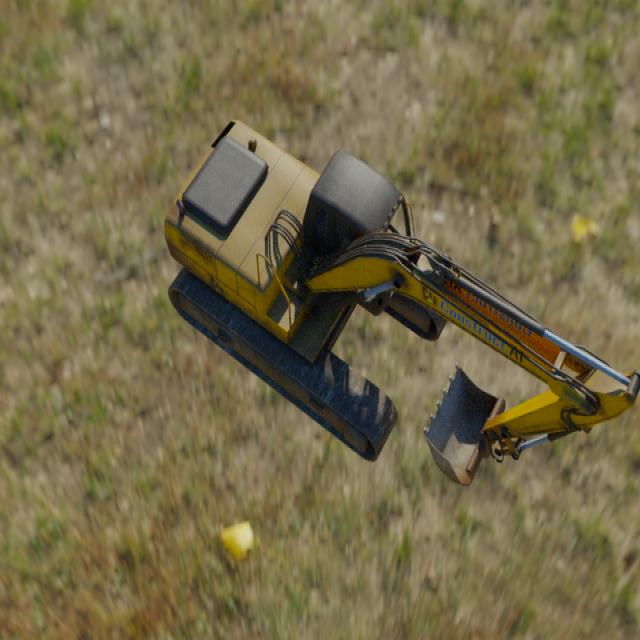excavator: (163, 119, 640, 485)
